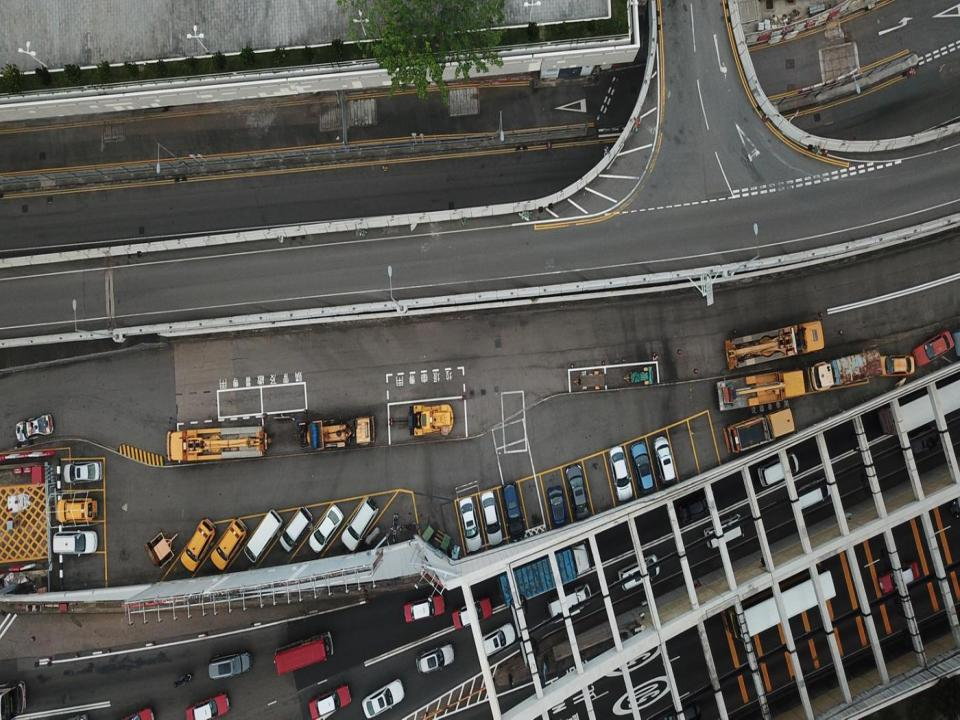bus: (723, 562, 836, 640), (877, 375, 960, 435), (275, 630, 333, 676)
car: (307, 504, 344, 553), (362, 678, 405, 718), (912, 330, 954, 367), (309, 684, 351, 719), (477, 621, 515, 659), (878, 561, 920, 595), (565, 463, 589, 521), (677, 489, 718, 522), (451, 598, 492, 630), (609, 445, 632, 501), (479, 490, 502, 544), (459, 496, 481, 552), (416, 642, 454, 674), (185, 693, 230, 719), (631, 442, 654, 492), (15, 413, 54, 442), (404, 595, 445, 621), (654, 436, 676, 483), (63, 460, 104, 484), (546, 484, 568, 527), (870, 354, 915, 375), (122, 705, 154, 719)
truck: (497, 539, 591, 607), (716, 362, 834, 411), (724, 320, 824, 370), (166, 423, 270, 463), (806, 347, 882, 391), (723, 408, 794, 452), (293, 414, 376, 449), (547, 583, 592, 623)
van: (244, 508, 284, 562), (341, 496, 378, 551), (180, 517, 216, 572), (210, 517, 247, 570), (278, 506, 313, 553), (618, 554, 660, 591), (757, 451, 798, 487), (703, 513, 745, 548), (501, 481, 525, 541), (793, 476, 831, 511), (208, 650, 252, 680), (900, 426, 942, 457), (52, 529, 97, 556), (57, 498, 98, 523), (663, 700, 702, 719)
